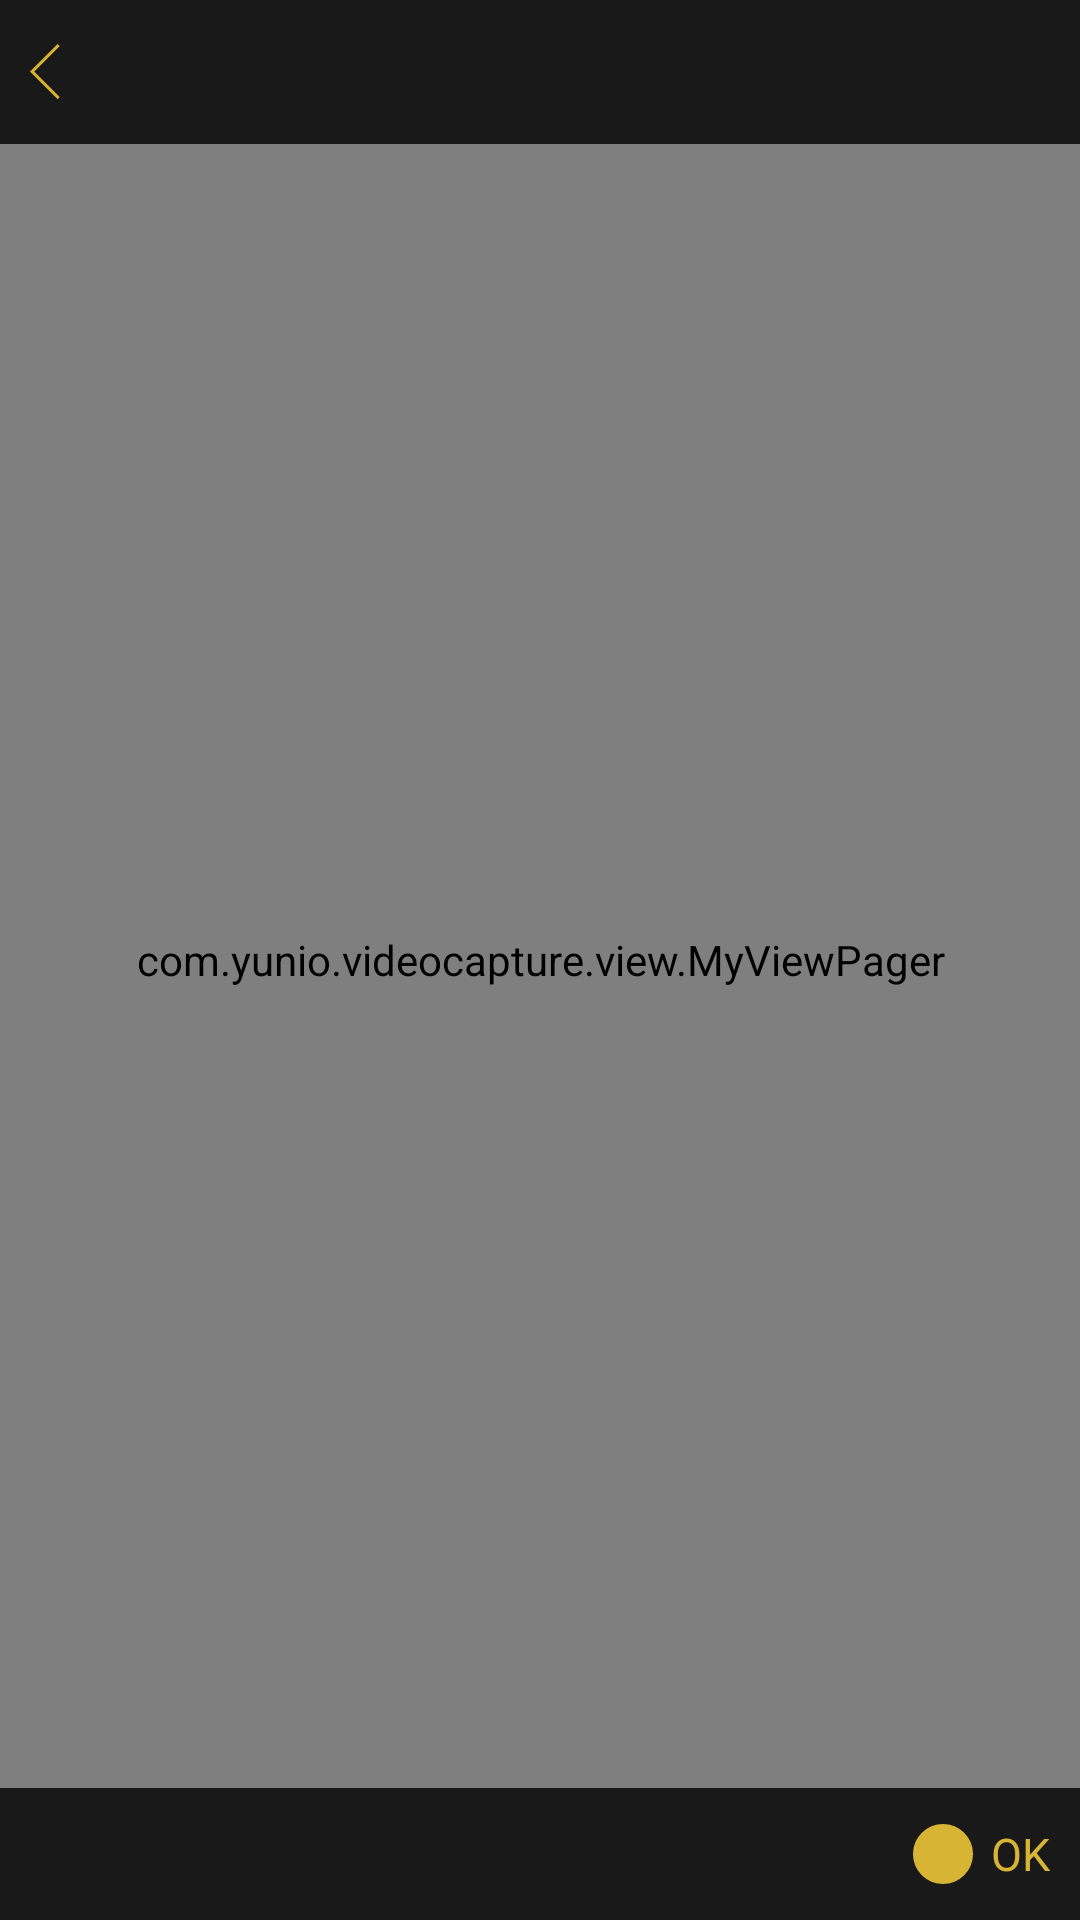

Named icons in this screenshot (1080w x 1920h) and their bounding boxes, [left=x1, top=y1, right=x2, bottom=y2]:
back: [left=30, top=44, right=60, bottom=99]
